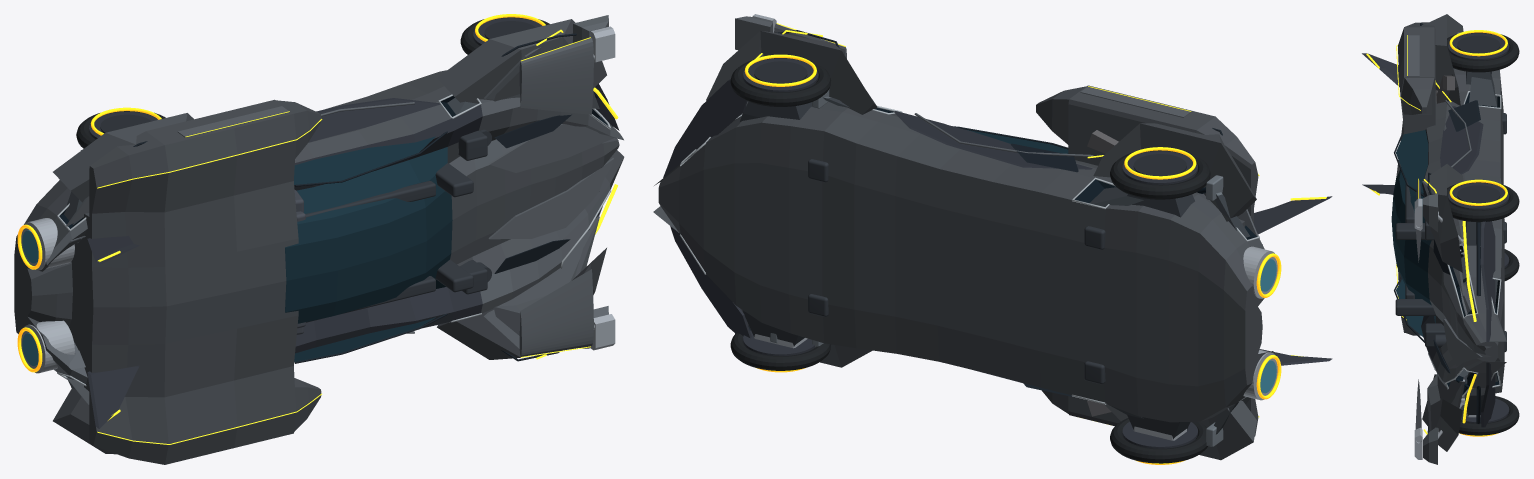
The model's file is phantom-a9.glb.
3 views of the same model, side by side, from view 1: azimuth 30°, elevation 25°; view 2: azimuth 150°, elevation 25°; view 3: azimuth 270°, elevation 25° (orthographic). The views are drawn at different scales.
Parts seen in each view (by area): view 1: PHANTOM_A8_INTEGRATED_DUCTED_FACETED_CFRP_HULL, PHANTOM_FRONT_RIGHT_WIDEBODY_ANGULAR_FENDER, A9_CANARD_L_ALL_MOVING_BLADE, A9_CANARD_R_ALL_MOVING_BLADE, PHANTOM_LEFT_SPEAR_BONNET_RIDGE, PHANTOM_FRONT_LEFT_WIDEBODY_ANGULAR_FENDER, PHANTOM_RIGHT_SPEAR_BONNET_RIDGE, PHANTOM_RIGHT_TRIANGULAR_COUPÉ_SIDEGLASS, PHANTOM_REAR_RIGHT_WIDEBODY_ANGULAR_FENDER, PHANTOM_RIGHT_BLACK_INVERTED_SPEAR_DOOR, PHANTOM_LEFT_NOSE_TO_WHEEL_SHOULDER, PHANTOM_LEFT_ANGULAR_RAKED_V_TAIL (+15 smaller); view 2: PHANTOM_A8_INTEGRATED_DUCTED_FACETED_CFRP_HULL, PHANTOM_REAR_RIGHT_WIDEBODY_ANGULAR_FENDER, PHANTOM_FRONT_RIGHT_WIDEBODY_ANGULAR_FENDER, PHANTOM_RIGHT_RAPTOR_NOSE_SPLITTER, PHANTOM_RIGHT_BLACK_INVERTED_SPEAR_DOOR, WHEEL_RR_CLOSED_TYRE, WHEEL_FR_CLOSED_TYRE, PHANTOM_REAR_LEFT_WIDEBODY_ANGULAR_FENDER, WHEEL_RL_CLOSED_TYRE, PHANTOM_LEFT_RAPTOR_NOSE_SPLITTER, WHEEL_FL_CLOSED_TYRE, PHANTOM_RIGHT_ANGULAR_RAKED_V_TAIL (+14 smaller); view 3: PHANTOM_A8_INTEGRATED_DUCTED_FACETED_CFRP_HULL, PHANTOM_FRONT_RIGHT_WIDEBODY_ANGULAR_FENDER, PHANTOM_RIGHT_BLACK_INVERTED_SPEAR_DOOR, PHANTOM_FRONT_LEFT_WIDEBODY_ANGULAR_FENDER, PHANTOM_RIGHT_TRIANGULAR_COUPÉ_SIDEGLASS, PHANTOM_REAR_RIGHT_WIDEBODY_ANGULAR_FENDER, PHANTOM_RIGHT_RAPTOR_NOSE_SPLITTER, WHEEL_RR_CLOSED_TYRE, WHEEL_FR_CLOSED_TYRE, WHEEL_FL_CLOSED_TYRE, PHANTOM_LEFT_SPEAR_BONNET_RIDGE, PHANTOM_LEFT_NOSE_TO_WHEEL_SHOULDER (+36 smaller).
Part boxes in pixels (x1=…): PHANTOM_A8_INTEGRATED_DUCTED_FACETED_CFRP_HULL: x1=14, y1=70, x2=624, y2=464; PHANTOM_FRONT_RIGHT_WIDEBODY_ANGULAR_FENDER: x1=437, y1=19, x2=606, y2=103; A9_CANARD_L_ALL_MOVING_BLADE: x1=519, y1=269, x2=593, y2=356; A9_CANARD_R_ALL_MOVING_BLADE: x1=519, y1=38, x2=593, y2=114; PHANTOM_LEFT_SPEAR_BONNET_RIDGE: x1=488, y1=158, x2=613, y2=239; PHANTOM_FRONT_LEFT_WIDEBODY_ANGULAR_FENDER: x1=437, y1=248, x2=606, y2=359; PHANTOM_RIGHT_SPEAR_BONNET_RIDGE: x1=488, y1=124, x2=613, y2=172; PHANTOM_RIGHT_TRIANGULAR_COUPÉ_SIDEGLASS: x1=294, y1=136, x2=435, y2=184; PHANTOM_REAR_RIGHT_WIDEBODY_ANGULAR_FENDER: x1=53, y1=113, x2=193, y2=202; PHANTOM_RIGHT_BLACK_INVERTED_SPEAR_DOOR: x1=308, y1=98, x2=440, y2=142; PHANTOM_LEFT_NOSE_TO_WHEEL_SHOULDER: x1=484, y1=216, x2=599, y2=348; PHANTOM_LEFT_ANGULAR_RAKED_V_TAIL: x1=87, y1=365, x2=139, y2=428; PHANTOM_A8_INTEGRATED_DUCTED_FACETED_CFRP_HULL: x1=653, y1=85, x2=1276, y2=436; PHANTOM_REAR_RIGHT_WIDEBODY_ANGULAR_FENDER: x1=1093, y1=123, x2=1256, y2=221; PHANTOM_FRONT_RIGHT_WIDEBODY_ANGULAR_FENDER: x1=706, y1=31, x2=877, y2=114; PHANTOM_RIGHT_RAPTOR_NOSE_SPLITTER: x1=663, y1=79, x2=747, y2=177; PHANTOM_RIGHT_BLACK_INVERTED_SPEAR_DOOR: x1=894, y1=111, x2=1092, y2=169; WHEEL_RR_CLOSED_TYRE: x1=1110, y1=150, x2=1210, y2=199; WHEEL_FR_CLOSED_TYRE: x1=730, y1=58, x2=831, y2=106; PHANTOM_REAR_LEFT_WIDEBODY_ANGULAR_FENDER: x1=1104, y1=400, x2=1256, y2=460; WHEEL_RL_CLOSED_TYRE: x1=1110, y1=418, x2=1207, y2=463; PHANTOM_LEFT_RAPTOR_NOSE_SPLITTER: x1=670, y1=226, x2=751, y2=337; WHEEL_FL_CLOSED_TYRE: x1=730, y1=325, x2=831, y2=370; PHANTOM_RIGHT_ANGULAR_RAKED_V_TAIL: x1=1254, y1=196, x2=1332, y2=234; PHANTOM_A8_INTEGRATED_DUCTED_FACETED_CFRP_HULL: x1=1391, y1=22, x2=1506, y2=395; PHANTOM_FRONT_RIGHT_WIDEBODY_ANGULAR_FENDER: x1=1427, y1=164, x2=1463, y2=272; PHANTOM_RIGHT_BLACK_INVERTED_SPEAR_DOOR: x1=1440, y1=106, x2=1483, y2=174; PHANTOM_FRONT_LEFT_WIDEBODY_ANGULAR_FENDER: x1=1427, y1=374, x2=1462, y2=451; PHANTOM_RIGHT_TRIANGULAR_COUPÉ_SIDEGLASS: x1=1396, y1=130, x2=1428, y2=192; PHANTOM_REAR_RIGHT_WIDEBODY_ANGULAR_FENDER: x1=1425, y1=14, x2=1463, y2=105; PHANTOM_RIGHT_RAPTOR_NOSE_SPLITTER: x1=1480, y1=221, x2=1495, y2=341; WHEEL_RR_CLOSED_TYRE: x1=1447, y1=32, x2=1519, y2=72; WHEEL_FR_CLOSED_TYRE: x1=1447, y1=182, x2=1519, y2=222; WHEEL_FL_CLOSED_TYRE: x1=1459, y1=396, x2=1519, y2=435; PHANTOM_LEFT_SPEAR_BONNET_RIDGE: x1=1443, y1=319, x2=1482, y2=365; PHANTOM_LEFT_NOSE_TO_WHEEL_SHOULDER: x1=1422, y1=374, x2=1464, y2=428.
Size of the model in its own units: 4.91 by 2.51 by 1.4.
